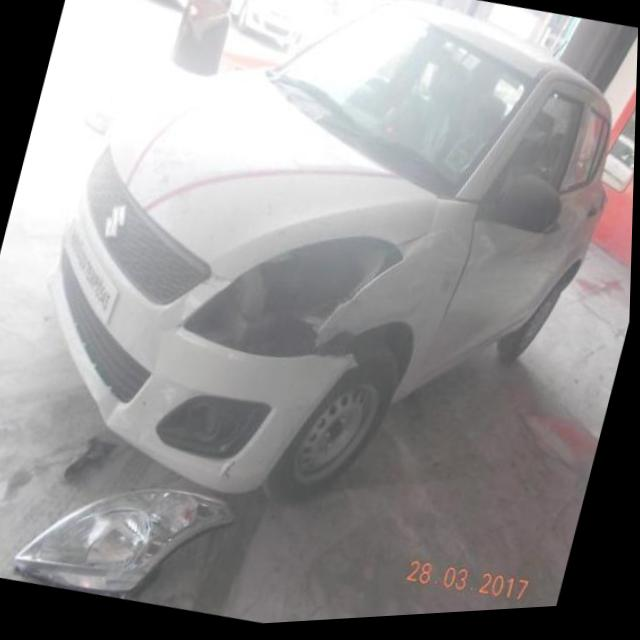Car-Damage: (175, 203, 406, 390), (151, 384, 278, 480), (309, 327, 368, 378)
